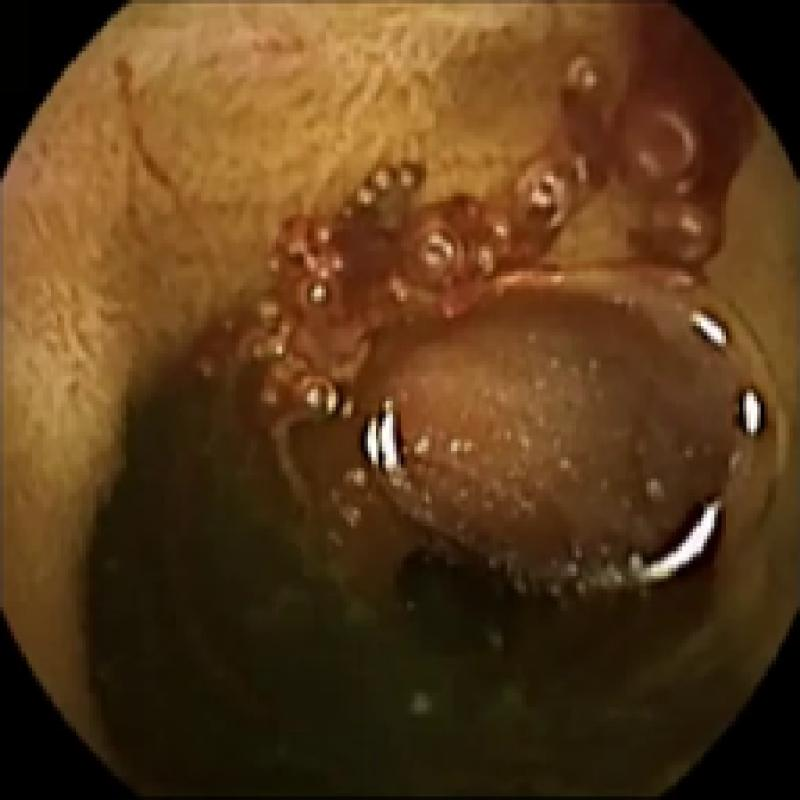bleeding: (221, 11, 750, 439)
